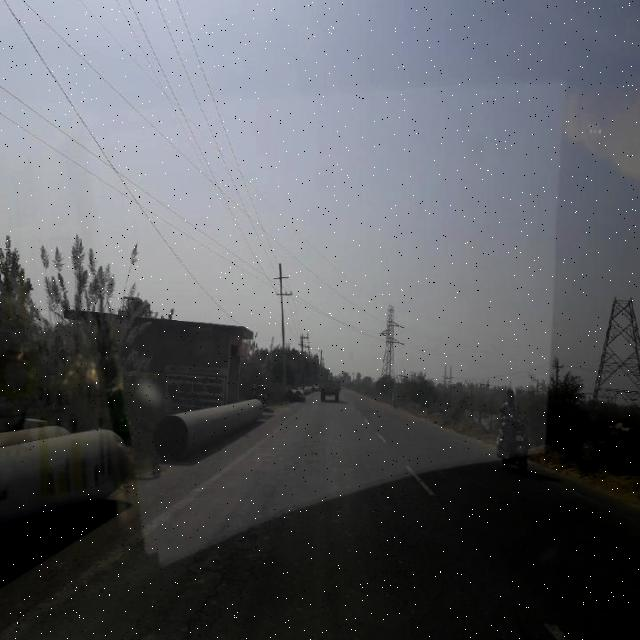D00: (161, 514, 266, 633)
